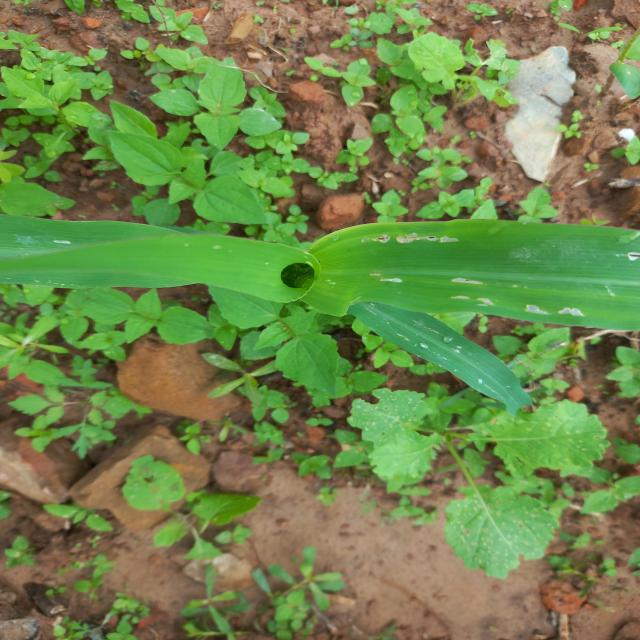maize: (10, 215, 640, 310)
weed: (19, 323, 640, 635), (0, 0, 565, 217)
